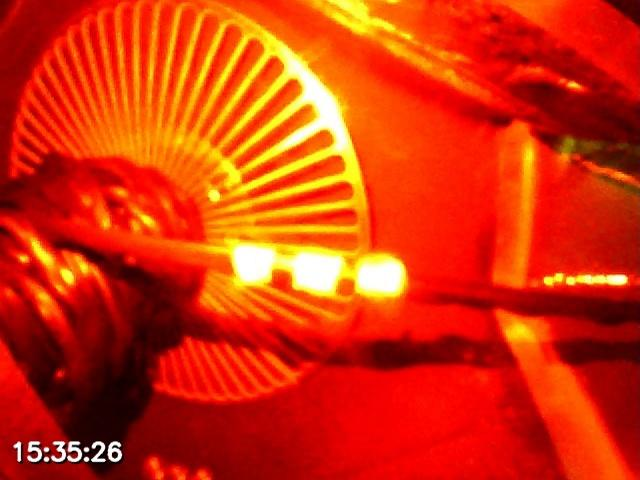white-dots: (228, 238, 406, 300)
